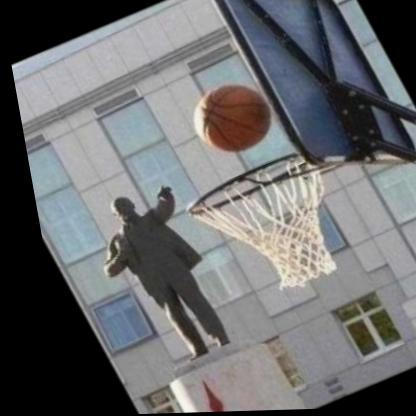basketball: (163, 67, 289, 173)
rim: (167, 144, 359, 314)
